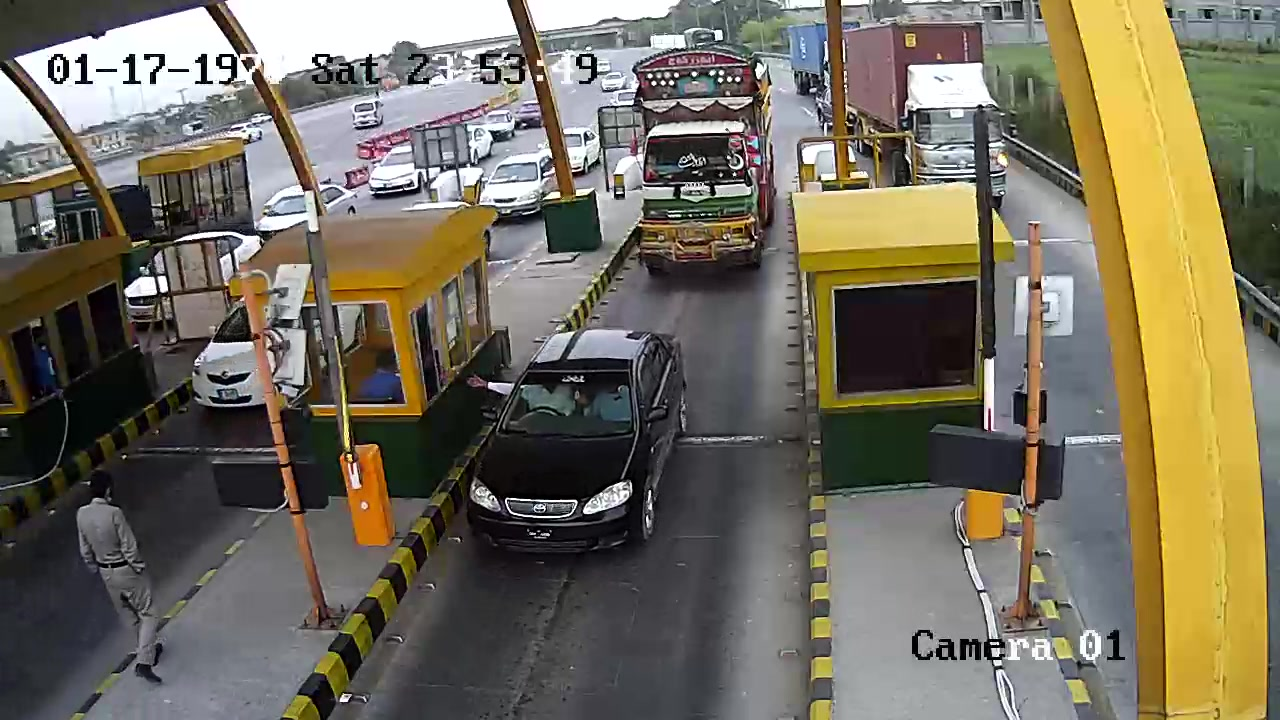F1: (461, 323, 705, 559)
